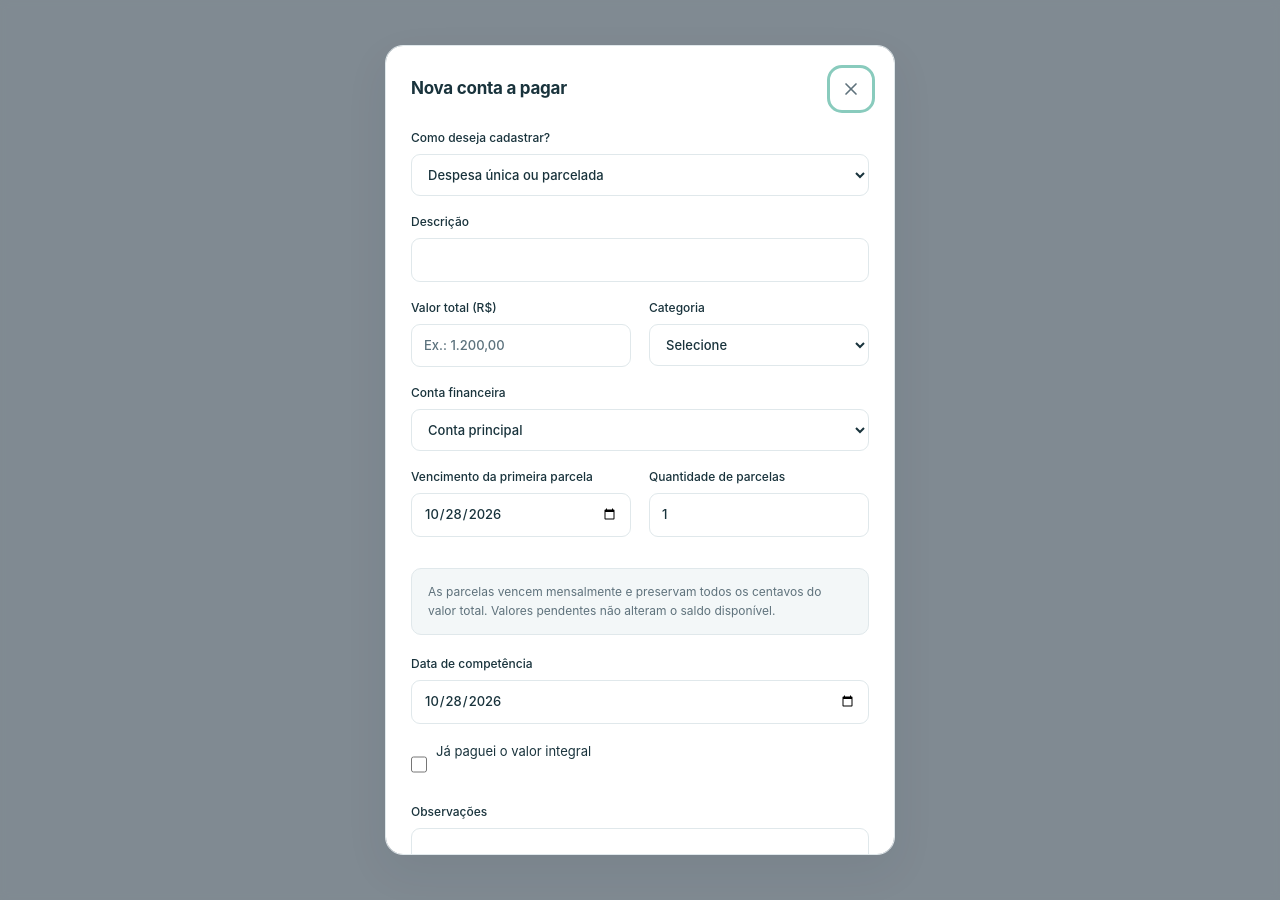
Scenario: rejects an excessive recurrence and never offers recurrence for receivables
Select "Despesa recorrente mensal" in the dropdown labelled "Como deseja cadastrar?" at (640, 175), box 411,154 -> 869,196
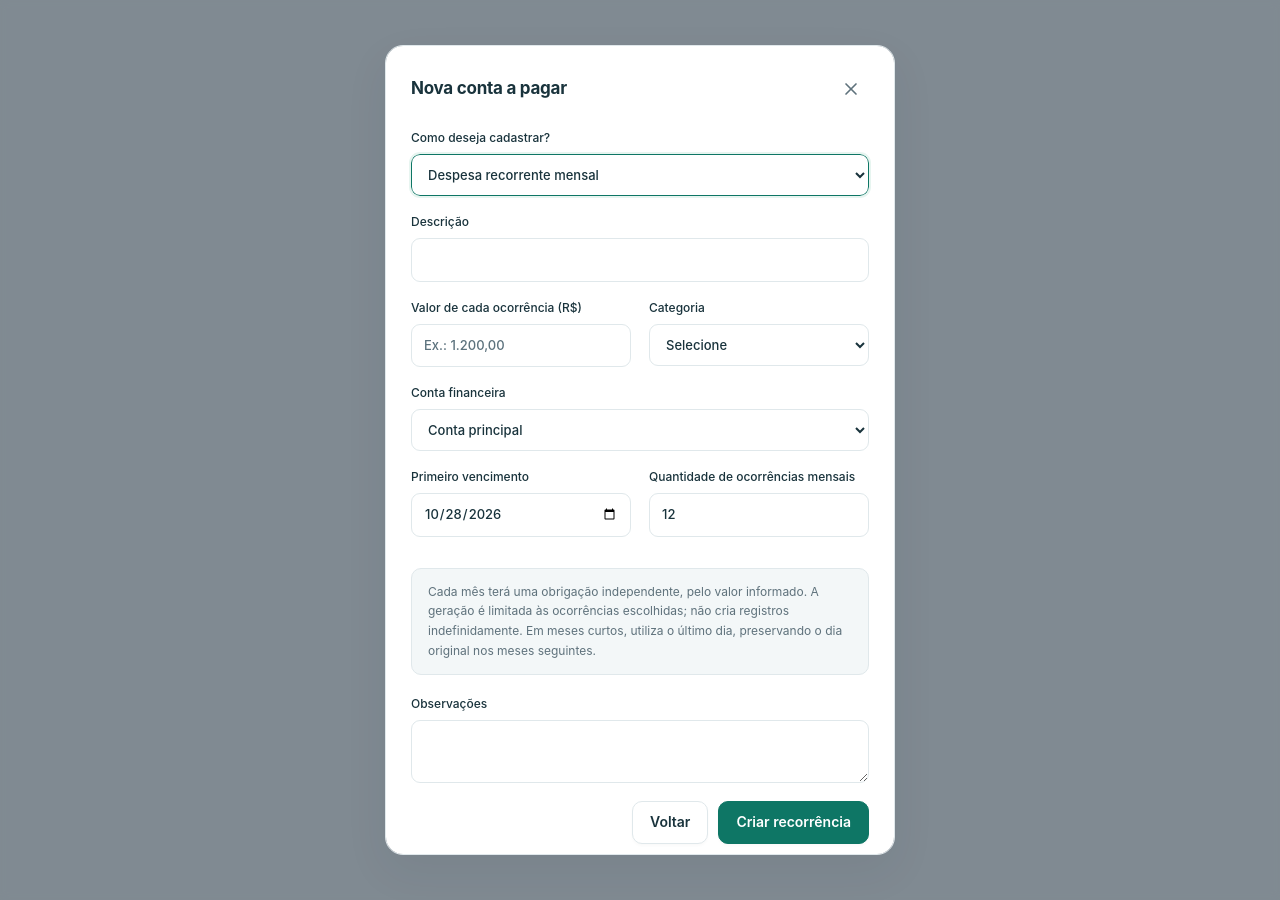
Type "Aluguel" into the field labelled "Descrição" at (640, 260), box 411,238 -> 869,282
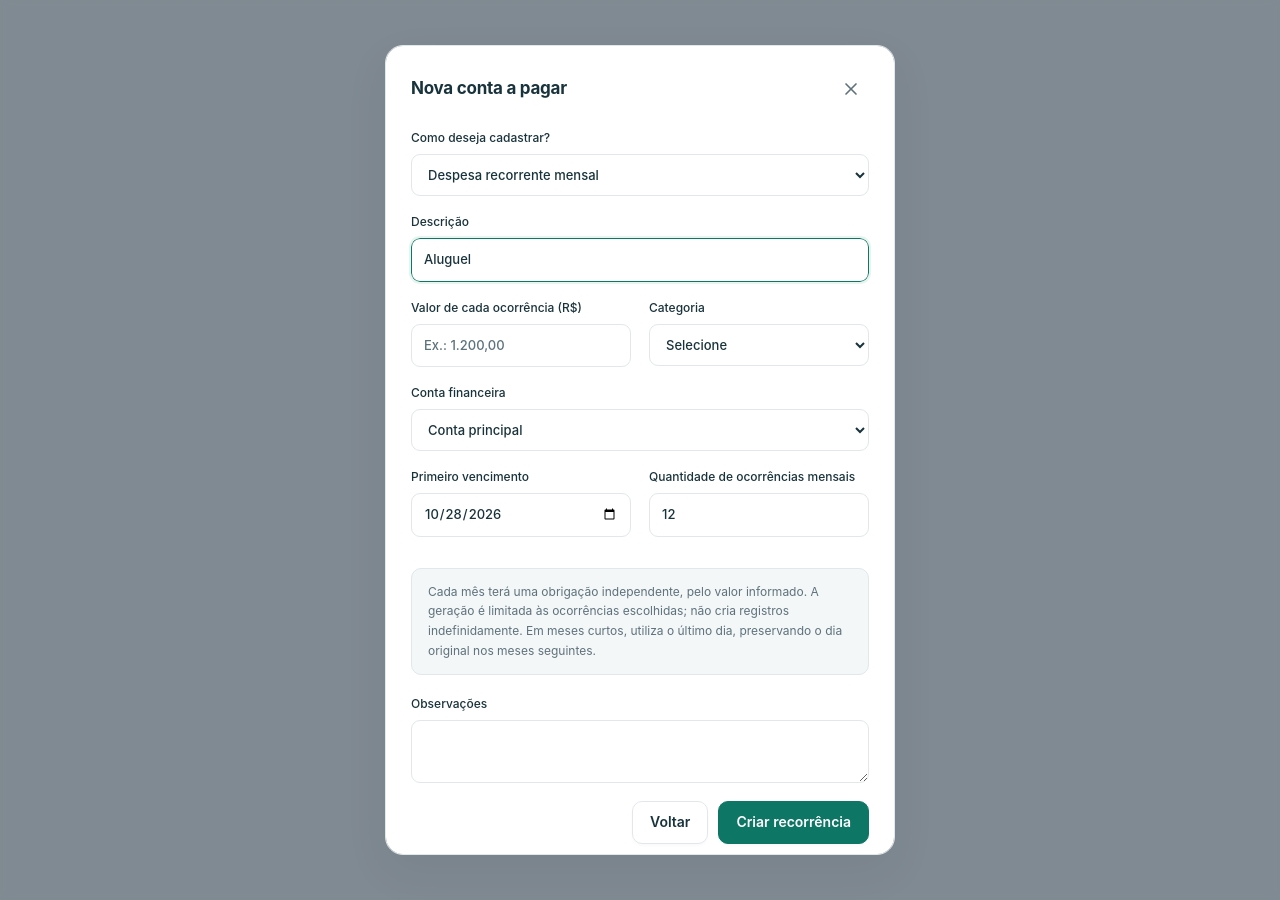
Type "100" into the field labelled "Valor de cada ocorrência (R$)" at (521, 345), box 411,324 -> 631,367
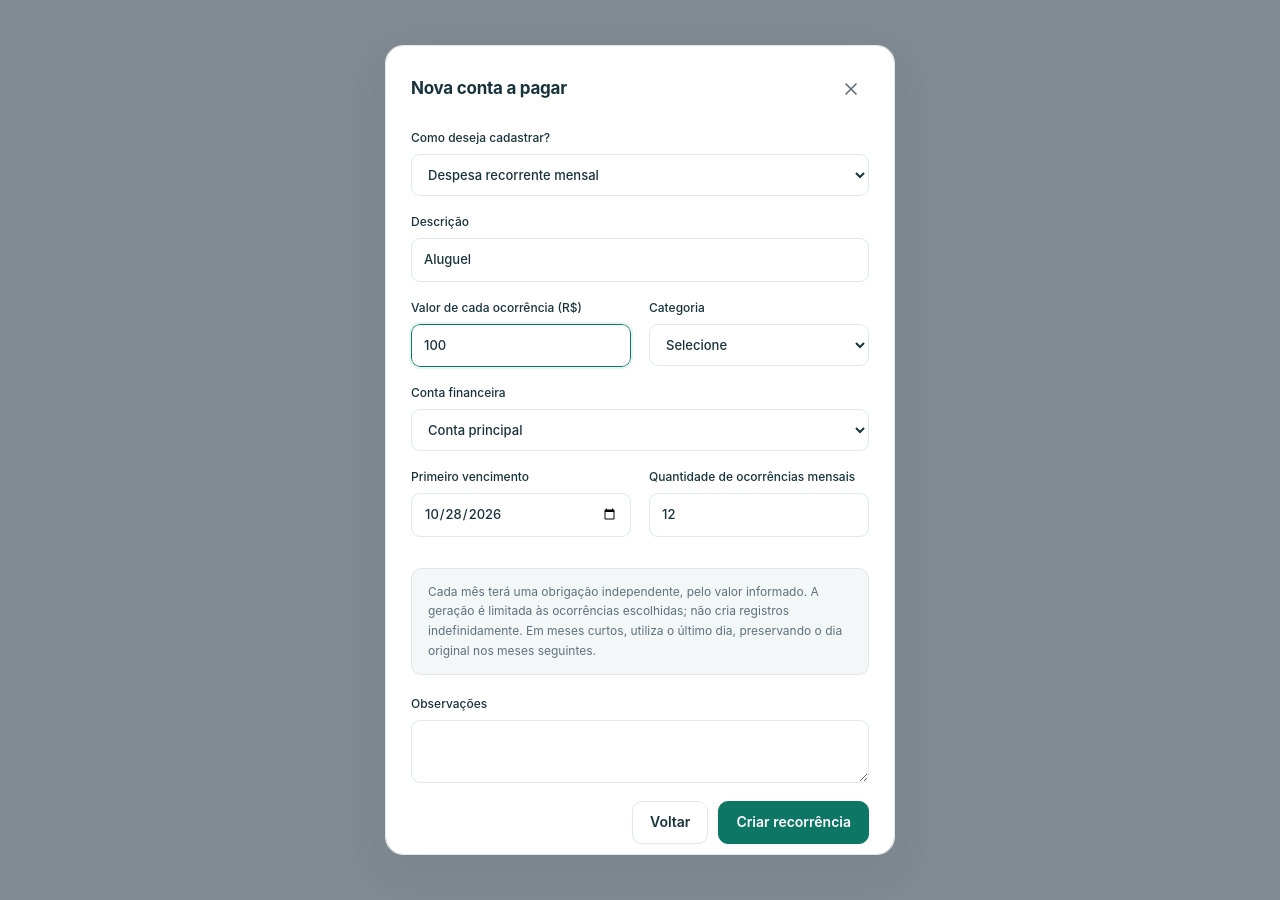
Select "Materiais" in the dropdown labelled "Categoria" at (759, 344), box 649,324 -> 869,366
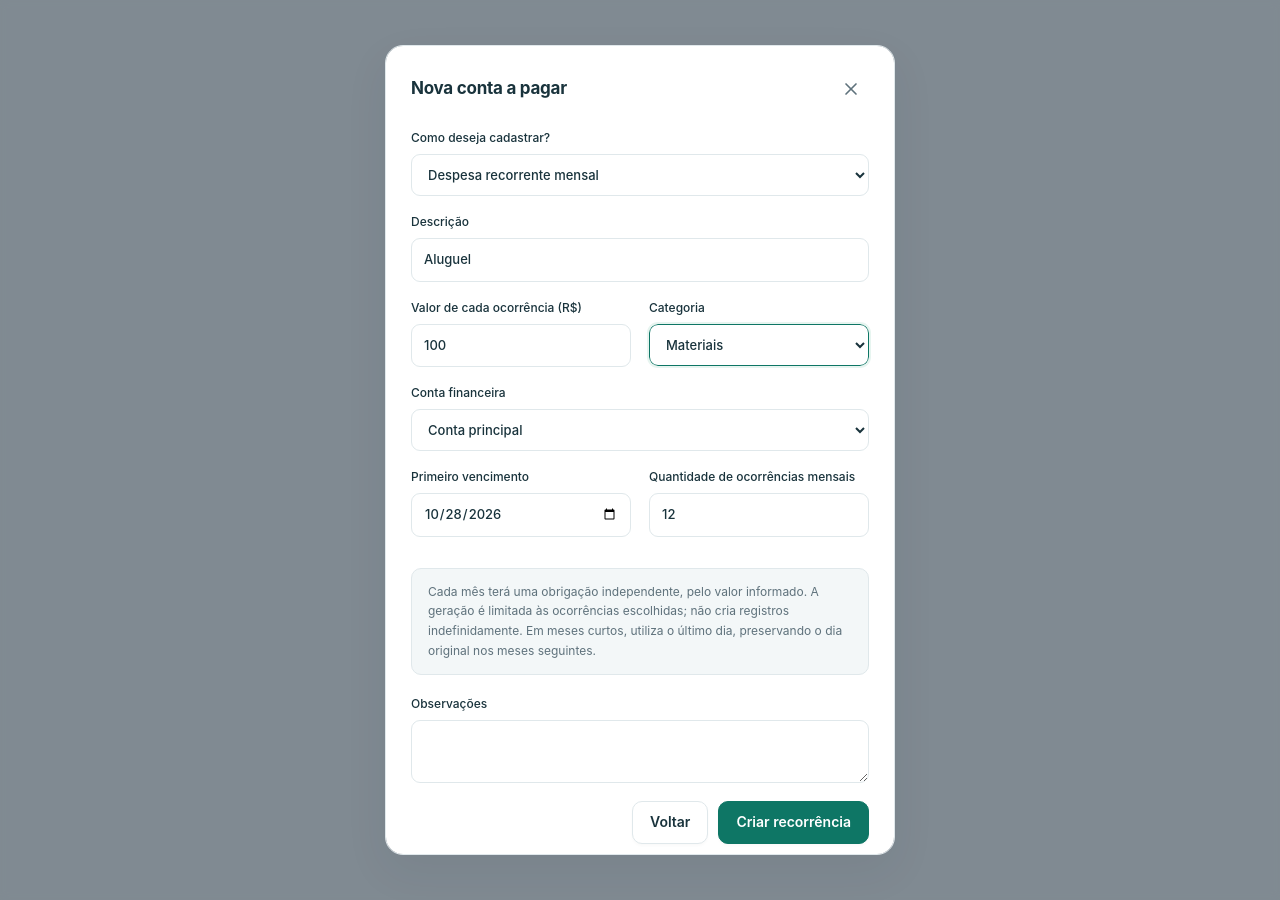
Replace the text in the number field labelled "Quantidade de ocorrências mensais" with "61" at (759, 515), box 649,493 -> 869,536
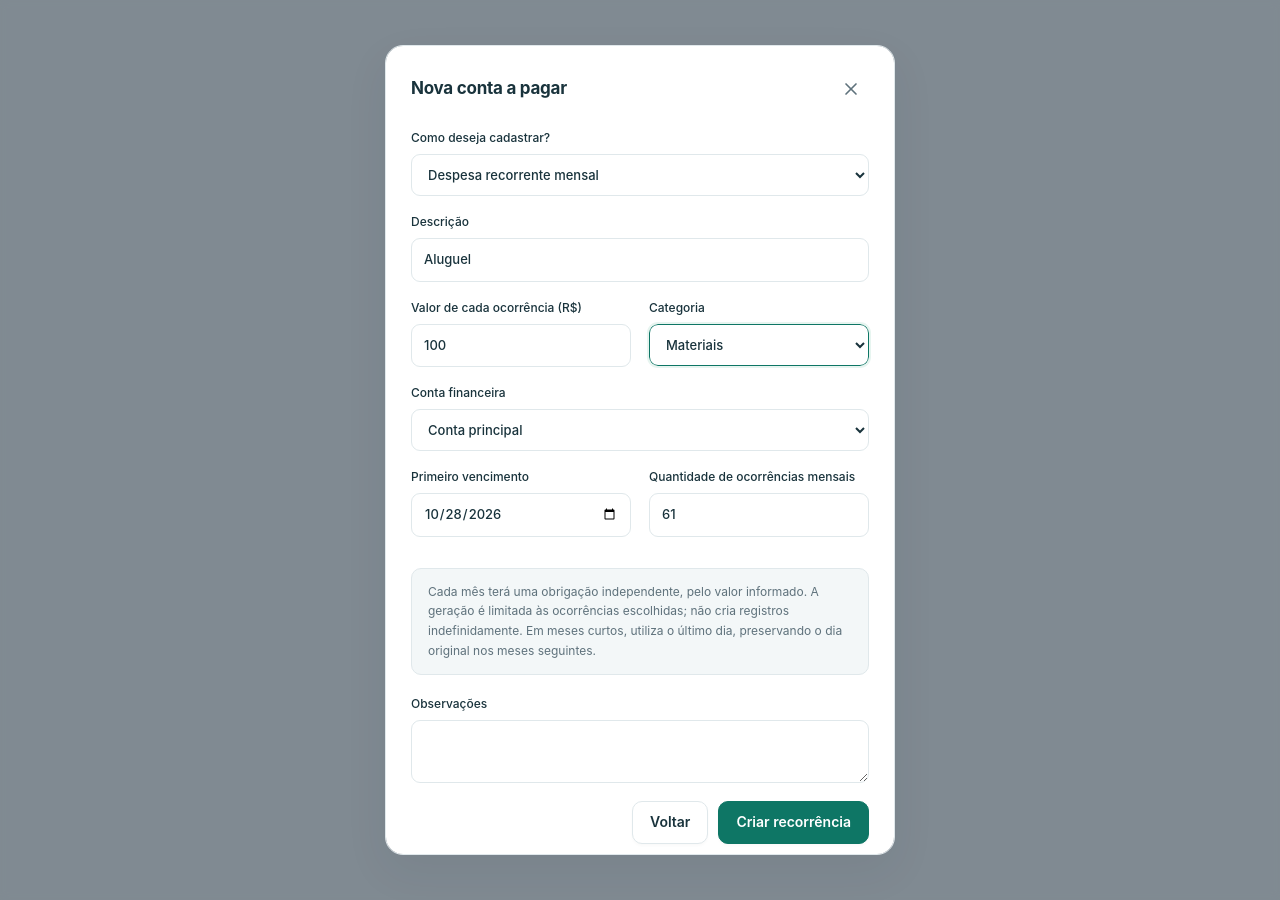
Click the button "Criar recorrência" at (794, 822), box 718,801 -> 869,844
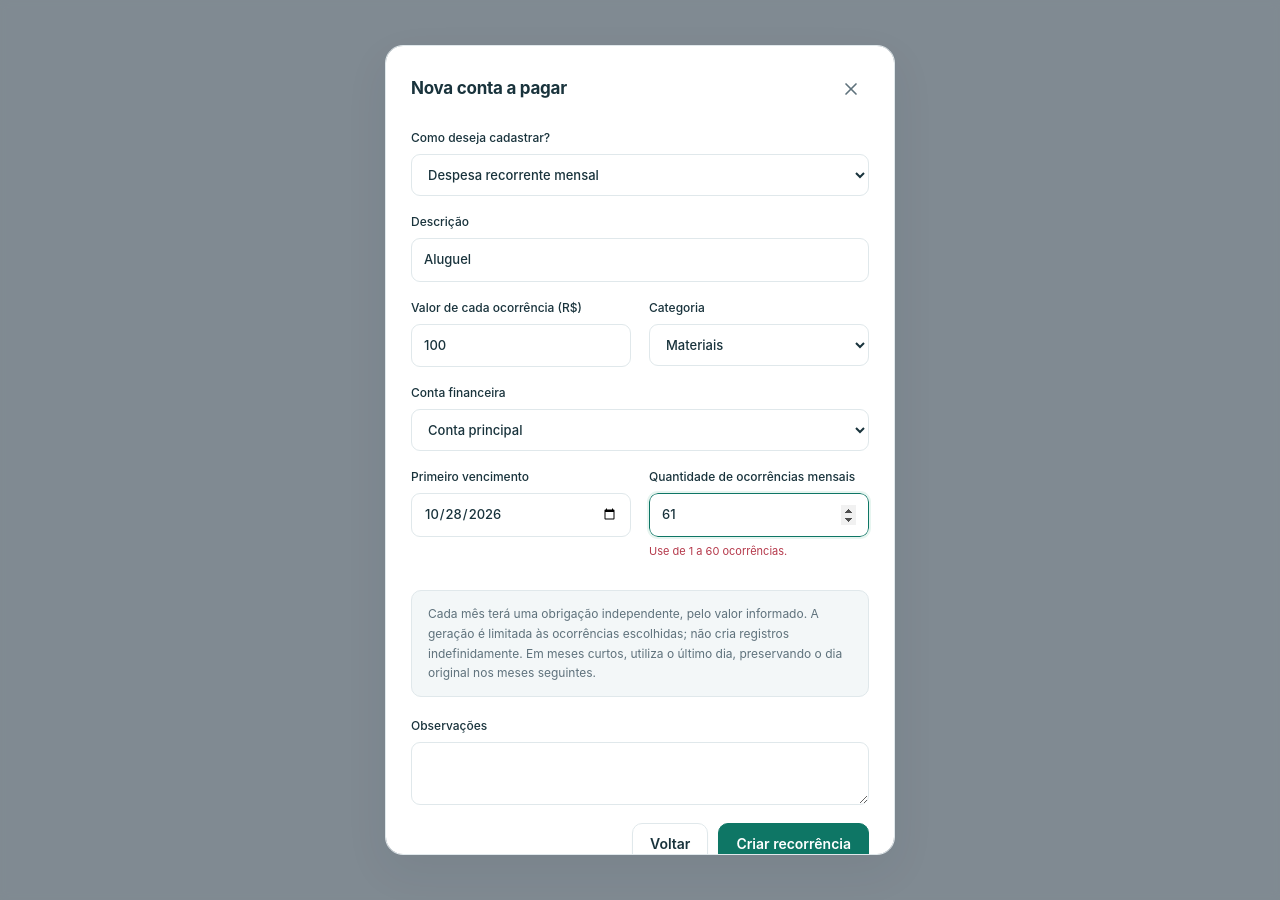
Now the message shows "1 a 60", box 649,544 -> 787,558
